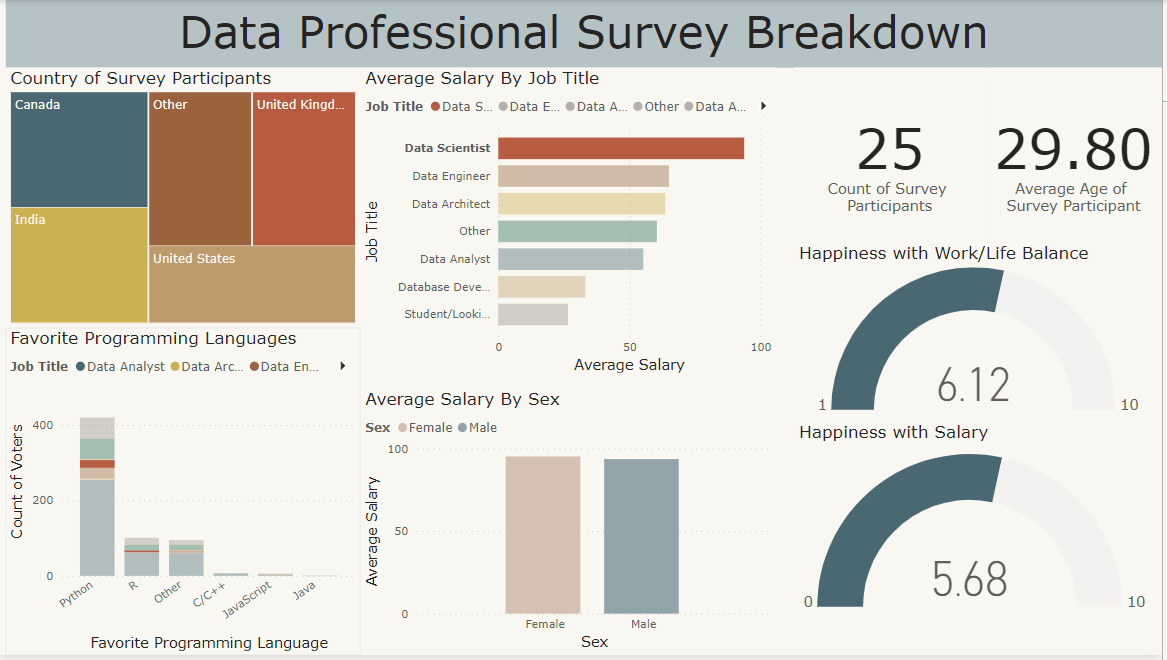

Layout of this report page (visuals, bound fields, positions):
{"tool":"powerbi","page":{"name":"Page 1","canvas":[1280,720],"ordinal":0},"visuals":[{"type":"textbox","box":[9.6,0,1270.4,74.2],"z":0},{"type":"card","fields":{"Values":["Count(Data Professional Survey.Unique ID)"]},"box":[876.2,74.2,208.8,190.9],"z":1000},{"type":"card","fields":{"Values":["Avg(Data Professional Survey.Q10 - Current Age)"]},"box":[1085,74.2,195,190.9],"z":2000},{"type":"barChart","title":"Average Salary By Job Title","fields":{"Category":["Data Professional Survey.Q1 - Which Title Best Fits your Current Role?.1"],"Y":["Avg(Data Professional Survey.Average Salary)"],"Series":["Data Professional Survey.Q1 - Which Title Best Fits your Current Role?.1"]},"box":[399.7,74.2,456,340.6],"z":2001},{"type":"columnChart","title":"Favorite Programming Languages","fields":{"Category":["Data Professional Survey.Q5 - Favorite Programming Language.1"],"Y":["CountNonNull(Data Professional Survey.Unique ID)"],"Series":["Data Professional Survey.Q1 - Which Title Best Fits your Current Role?.1"]},"box":[9.6,359.8,390,359.8],"z":2002},{"type":"treemap","title":"Country of Survey Takers","fields":{"Group":["Data Professional Survey.Q11 - Which Country do you live in?.1"],"Values":["Count(Data Professional Survey.Q11 - Which Country do you live in?.1)"]},"box":[9.6,74.2,390,285.7],"z":2003},{"type":"gauge","title":"Happiness with Work/Life Balance","fields":{"Y":["Avg(Data Professional Survey.Q6 - How Happy are you in your Current Position with the following? (Work/Life Balance))"],"MinValue":["Min(Data Professional Survey.Q6 - How Happy are you in your Current Position with the following? (Work/Life Balance))1"],"MaxValue":["Max(Data Professional Survey.Q6 - How Happy are you in your Current Position with the following? (Work/Life Balance))2"]},"box":[876.2,266.4,403.8,193.6],"z":2004},{"type":"gauge","title":"Happiness with Salary","fields":{"Y":["Avg(Data Professional Survey.Q6 - How Happy are you in your Current Position with the following? (Salary))"],"MinValue":["Min(Data Professional Survey.Q6 - How Happy are you in your Current Position with the following? (Salary))"],"MaxValue":["Max(Data Professional Survey.Q6 - How Happy are you in your Current Position with the following? (Salary))"]},"box":[876.2,462.8,395.5,222.5],"z":2005},{"type":"columnChart","title":"Average Salary By Sex","fields":{"Category":["Data Professional Survey.Q9 - Male/Female?"],"Y":["Avg(Data Professional Survey.Average Salary)"],"Series":["Data Professional Survey.Q9 - Male/Female?"]},"box":[399.7,427.1,456,292.5],"z":2006}]}

Visuals, with their boxes in screenshot pixels (x1, y1, x2, y2), scaled from the page's 1280x720 canvas onto the 1167x660 screenshot:
textbox: BBox(9, 0, 1166, 68)
card - Count(Data Professional Survey.Unique ID): BBox(799, 68, 989, 243)
card - Avg(Data Professional Survey.Q10 - Current Age): BBox(989, 68, 1166, 243)
"Average Salary By Job Title" barChart: BBox(364, 68, 780, 380)
"Favorite Programming Languages" columnChart: BBox(9, 330, 364, 659)
"Country of Survey Takers" treemap: BBox(9, 68, 364, 330)
"Happiness with Work/Life Balance" gauge: BBox(799, 244, 1166, 422)
"Happiness with Salary" gauge: BBox(799, 424, 1159, 628)
"Average Salary By Sex" columnChart: BBox(364, 392, 780, 659)
